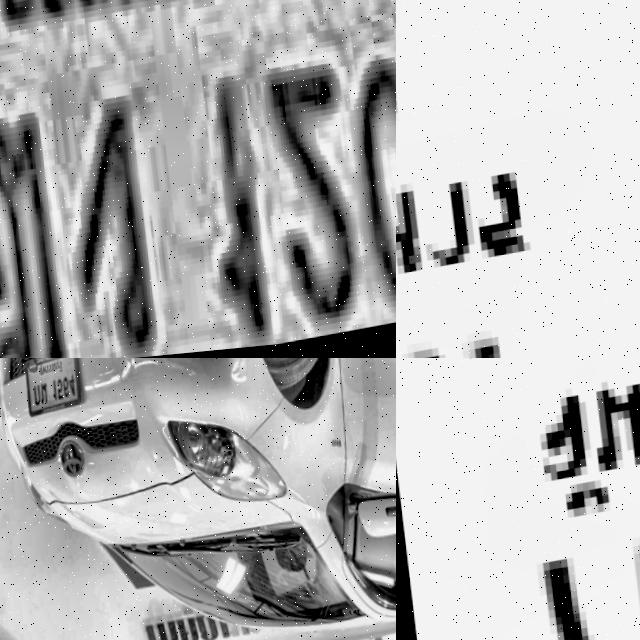license-plate: (0, 0, 396, 358), (396, 0, 640, 358), (396, 358, 640, 640), (18, 358, 80, 420)
